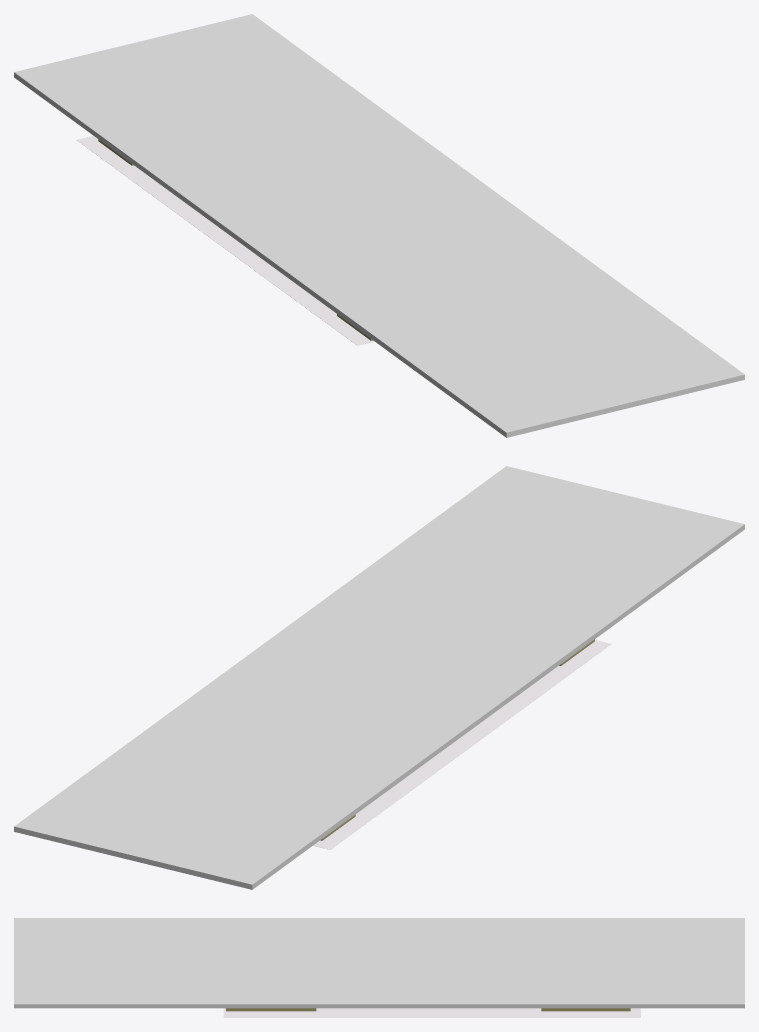
The model's file is inside hotel 0.00005.glb.
The picture shows the model from 3 angles, top to bottom: view 1: azimuth 30°, elevation 25°; view 2: azimuth 150°, elevation 25°; view 3: azimuth 270°, elevation 25°; orthographic projection. The views are drawn at different scales.
Parts seen in each view (by area): view 1: Cube, floor-col.001; view 2: Cube, floor-col.001; view 3: Cube, floor-col.001, layout-col.
Boxes of the visible parts, x1,y1,x2,y2 form: Cube: [14, 14, 744, 437]; floor-col.001: [76, 135, 374, 345]; Cube: [14, 466, 744, 889]; floor-col.001: [313, 640, 611, 849]; Cube: [14, 918, 744, 1008]; floor-col.001: [223, 1008, 640, 1017]; layout-col: [226, 1008, 630, 1011].
Bounding box in the file's own units: 101 × 5.96 × 340.
244 materials, 1 textured.
